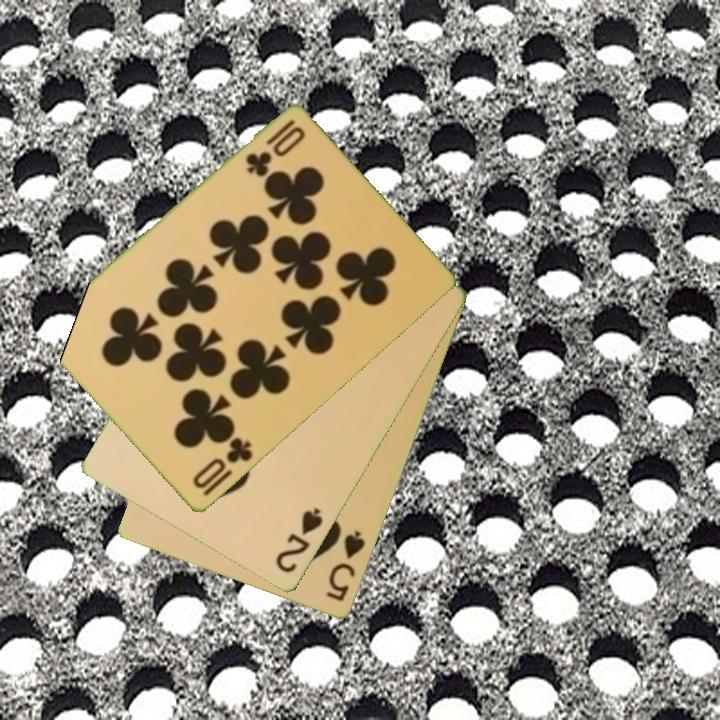10c: (189, 434, 256, 493), (241, 116, 298, 180)
2s: (272, 504, 326, 577)
5s: (322, 527, 369, 605)
